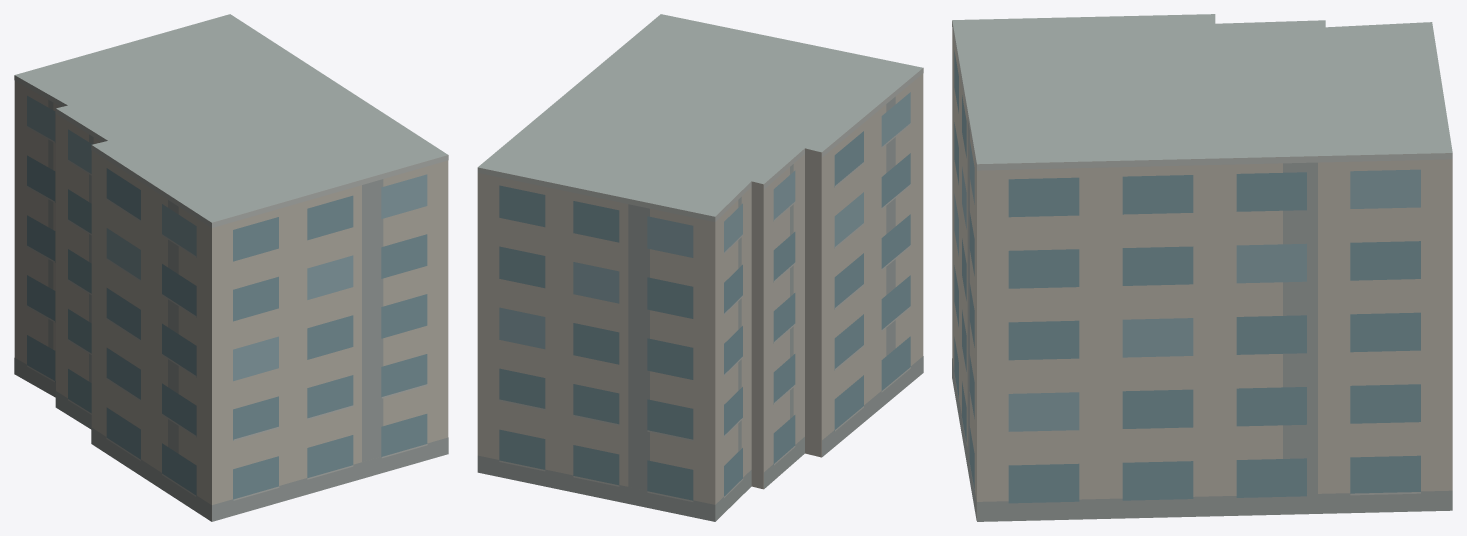
The model's file is survey-upis-32562997.glb.
The picture shows the model from 3 angles, left to right: view 1: azimuth 30°, elevation 25°; view 2: azimuth 150°, elevation 25°; view 3: azimuth 270°, elevation 25°; orthographic projection. The views are drawn at different scales.
Visible parts, largest first — view 1: survey-upis-32562997.tmp; view 2: survey-upis-32562997.tmp; view 3: survey-upis-32562997.tmp.
Part boxes in pixels (left/top/right/bottom): survey-upis-32562997.tmp: left=14, top=14, right=448, bottom=521; survey-upis-32562997.tmp: left=477, top=14, right=923, bottom=521; survey-upis-32562997.tmp: left=952, top=14, right=1452, bottom=521.
Bounding box in the file's own units: 12.25 × 13.6 × 17.26.
